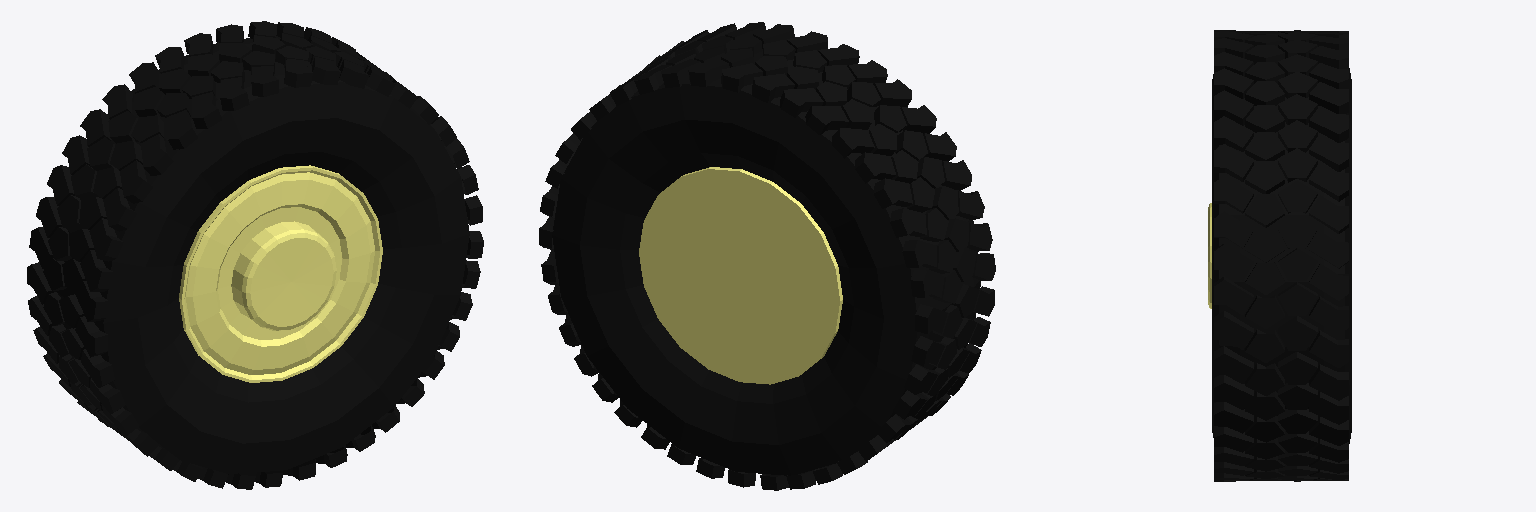
The model's file is mraptirepass1.obj.
3 views of the same model, side by side, from view 1: azimuth 30°, elevation 25°; view 2: azimuth 150°, elevation 25°; view 3: azimuth 270°, elevation 25° (orthographic).
Visible parts, largest first — view 1: svgMesh17, pCylinder4; view 2: svgMesh17, pCylinder4; view 3: svgMesh17.
Part boxes in pixels (bbox=[...]): svgMesh17: bbox=[27, 21, 483, 489]; pCylinder4: bbox=[179, 165, 382, 382]; svgMesh17: bbox=[539, 22, 995, 490]; pCylinder4: bbox=[639, 167, 842, 384]; svgMesh17: bbox=[1212, 30, 1351, 481].
Size of the model in its own units: 210 by 210 by 66.97.